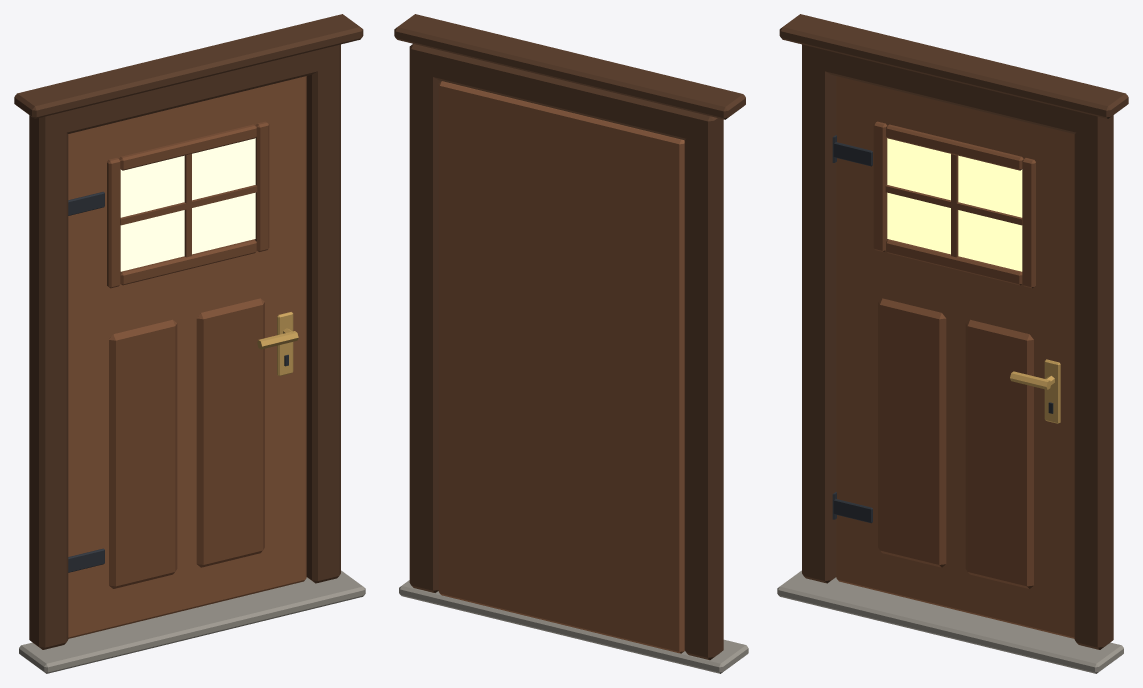
The model's file is door.glb.
The picture shows the model from 3 angles, left to right: view 1: azimuth 30°, elevation 25°; view 2: azimuth 150°, elevation 25°; view 3: azimuth 330°, elevation 25°; orthographic projection.
Parts seen in each view (by area): view 1: Door; view 2: Door; view 3: Door.
Part boxes in pixels (left/top/right/bottom): Door: left=14, top=14, right=365, bottom=673; Door: left=394, top=14, right=748, bottom=673; Door: left=777, top=14, right=1128, bottom=673.
Bounding box in the file's own units: 0.68 × 1.1 × 0.1.
